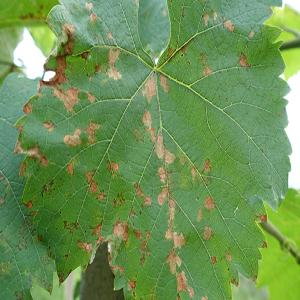Folha: (11, 0, 292, 298)
Fungo: (37, 24, 80, 96), (102, 44, 126, 87), (52, 84, 82, 118), (165, 193, 178, 243), (26, 142, 48, 168), (142, 72, 156, 104), (164, 249, 182, 273), (84, 120, 100, 145), (63, 215, 81, 237), (153, 128, 165, 160), (63, 127, 81, 147), (175, 272, 193, 292), (77, 238, 94, 255), (163, 146, 176, 164), (173, 230, 185, 249), (142, 110, 152, 132), (112, 220, 124, 238), (157, 186, 167, 206), (159, 73, 169, 93), (203, 195, 215, 211), (88, 9, 98, 28), (42, 119, 56, 132), (222, 19, 234, 32), (116, 190, 125, 207), (158, 166, 167, 183), (239, 53, 249, 68), (202, 225, 212, 240), (224, 248, 234, 263), (88, 180, 98, 194), (93, 220, 102, 235), (104, 30, 117, 40), (25, 196, 35, 209), (66, 160, 74, 176), (202, 158, 210, 174), (202, 64, 212, 76), (96, 189, 106, 201), (142, 195, 152, 207), (40, 184, 49, 197), (248, 27, 257, 40), (85, 170, 93, 183), (202, 12, 209, 26), (196, 208, 202, 222), (190, 166, 196, 180), (85, 2, 94, 11), (259, 213, 267, 223), (111, 161, 119, 171), (210, 255, 216, 264), (212, 11, 218, 20)
